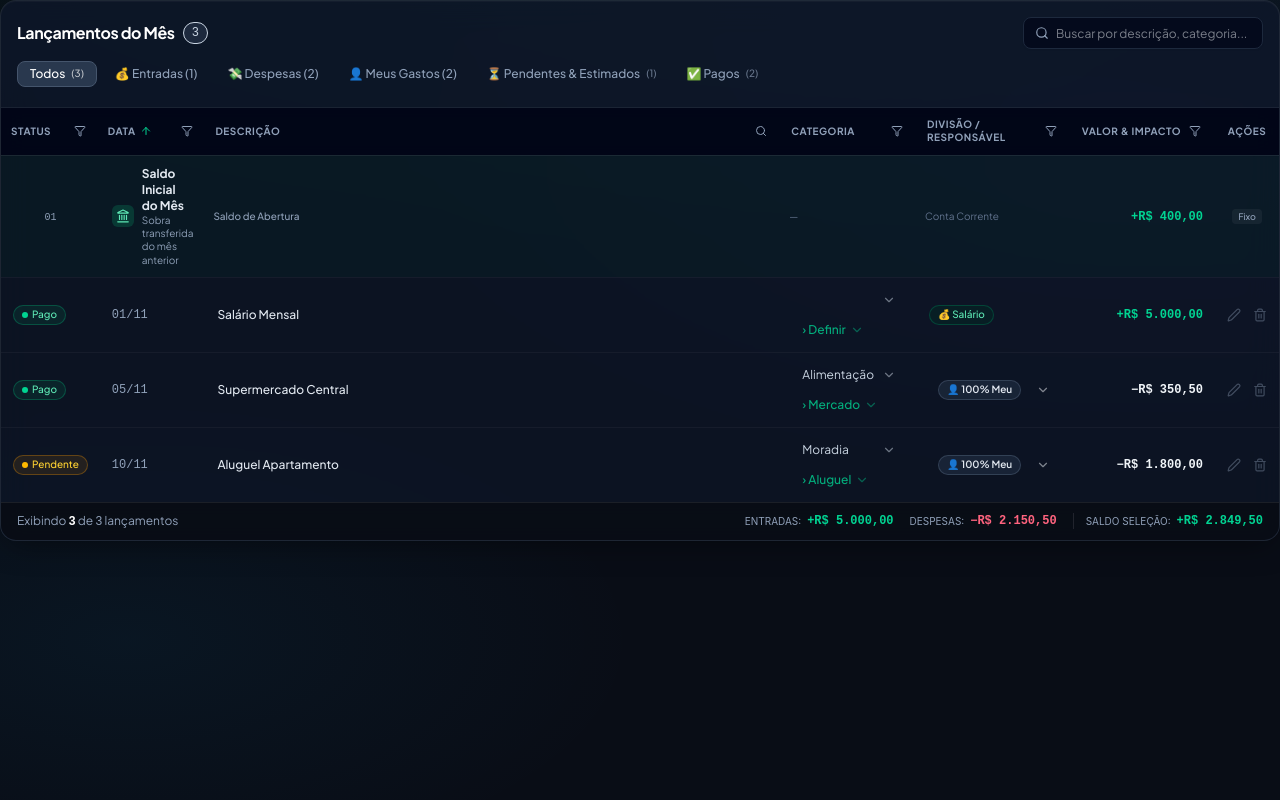
Test: TransactionTable with DOM Virtualization › filters by search term correctly and updates count badge
Type "Supermercado" into the field with placeholder "Buscar por descrição, categoria...".
click(1143, 33); type("Supermercado")  # box [1023,17,1263,49]
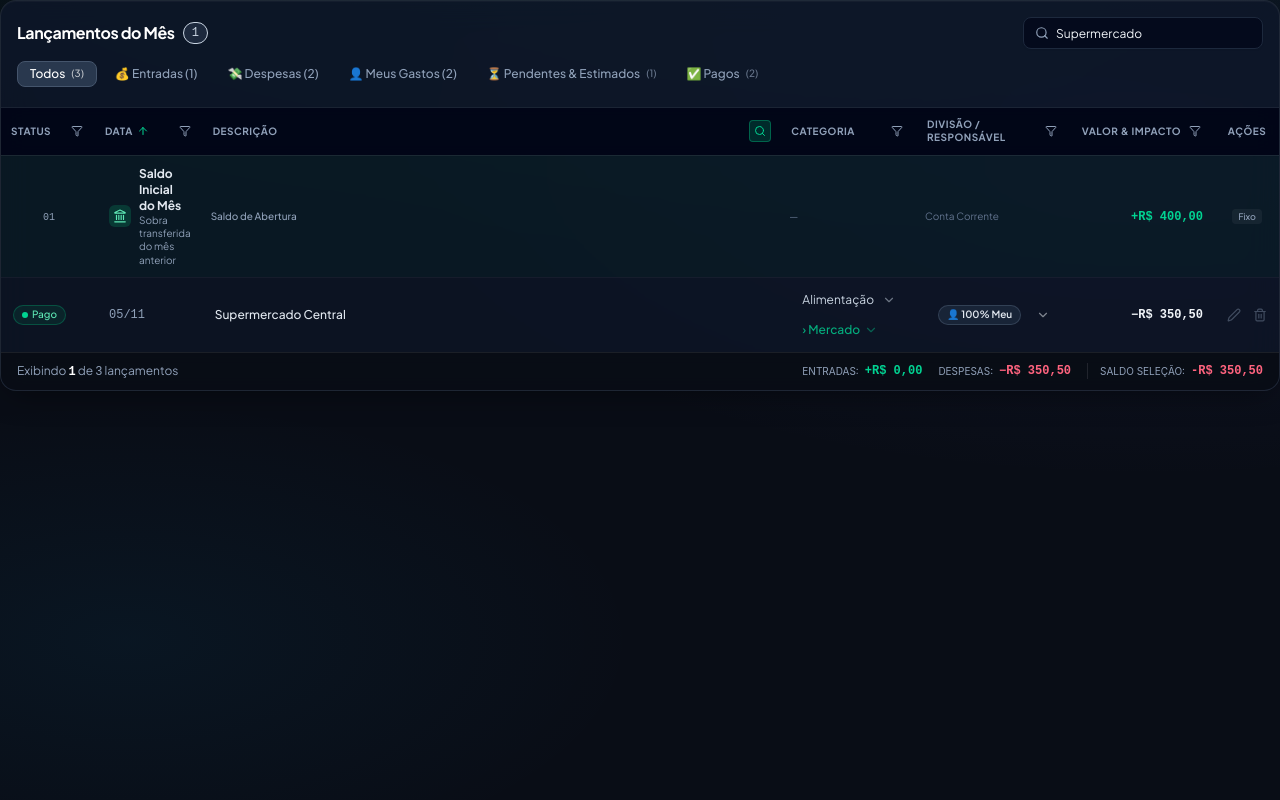
Check: the text "Aluguel Apartamento" is gone
